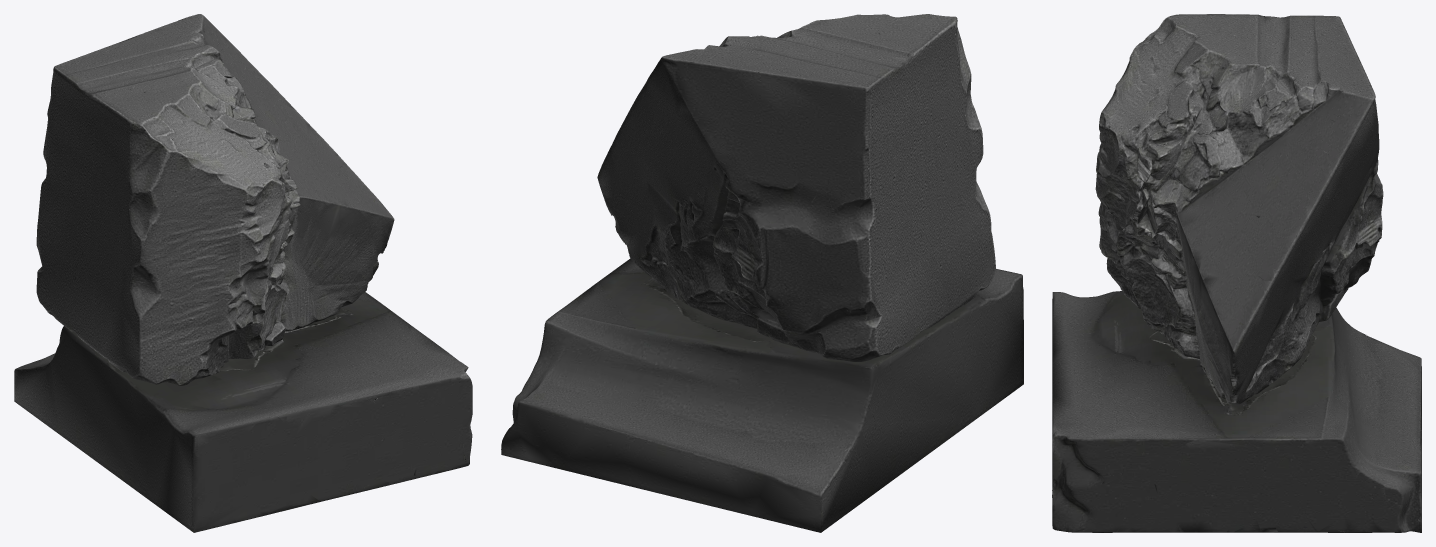
Rendered from bloco-3d-web.glb.
3 views of the same model, side by side, from view 1: azimuth 30°, elevation 25°; view 2: azimuth 150°, elevation 25°; view 3: azimuth 270°, elevation 25° (orthographic). The views are drawn at different scales.
Parts seen in each view (by area): view 1: Mesh1.0; view 2: Mesh1.0; view 3: Mesh1.0.
Boxes of the visible parts, box(x1,y1,x2,y2) form: Mesh1.0: box(14, 14, 472, 532); Mesh1.0: box(501, 14, 1023, 532); Mesh1.0: box(1052, 14, 1421, 532).
Bounding box in the file's own units: 1.74 × 2 × 1.78.
Materials: 1 (1 with a texture image).
